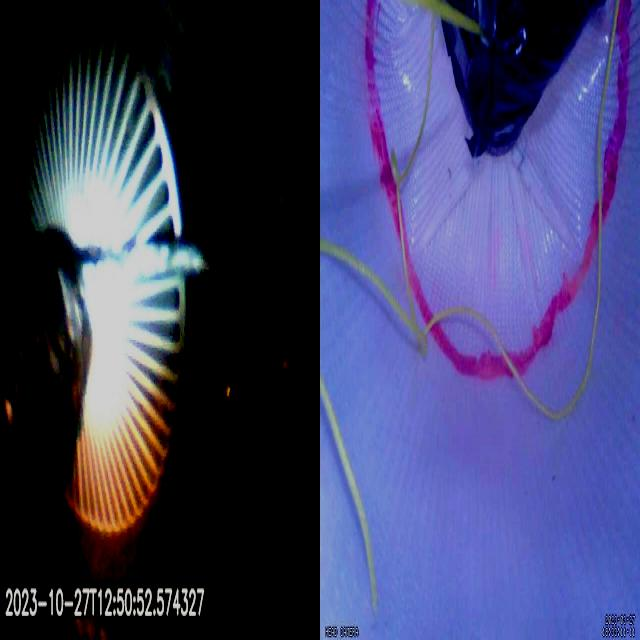red-circle: (364, 0, 630, 382)
